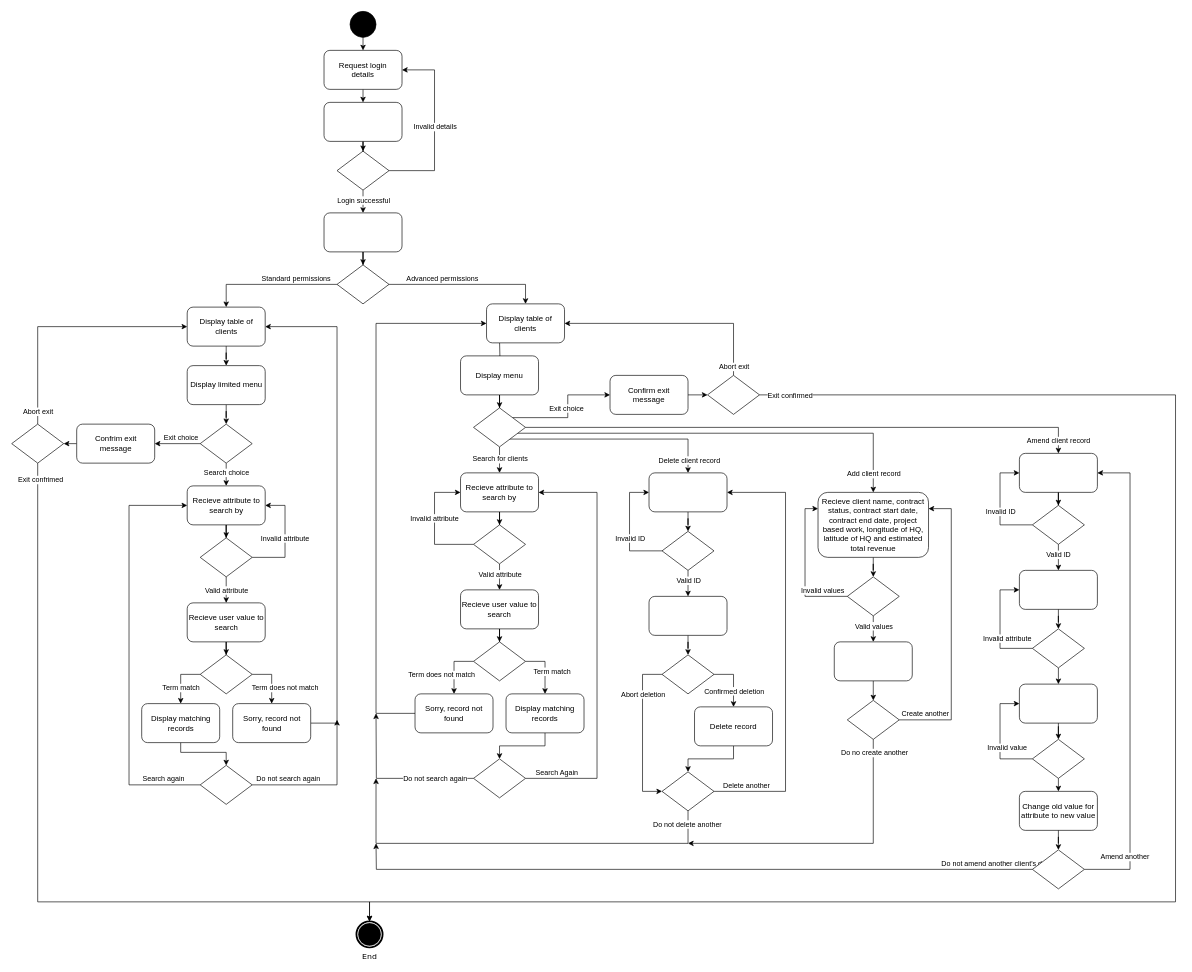
Image size: 1192x972. Some labels were removed from this diagram. Each missing label, with the box of its shape:
Create a new record with the entered client details: (834, 641, 912, 681)
Find record with matching ID to delete: (648, 596, 727, 635)
Processing login details: (323, 102, 402, 141)
Processing user permissions: (323, 212, 402, 252)
Receive an attribute that the user would like to amend: (1019, 570, 1097, 609)
Receive replacement value: (1019, 683, 1097, 723)
Recieve a client ID to amend record values: (1019, 453, 1097, 492)
Recieve a client ID to delete a record: (648, 472, 727, 512)
Start: (349, 11, 376, 37)
